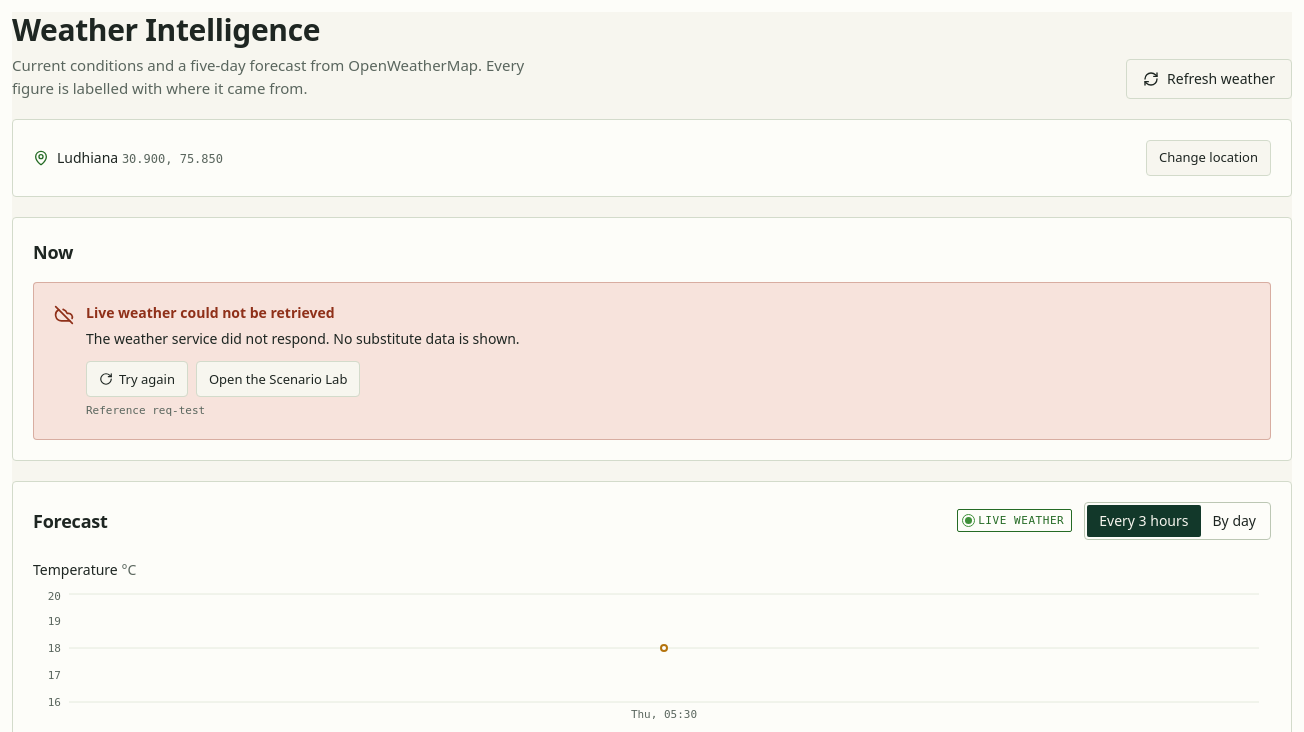
Test: WeatherPage › offers a retry after an outage, and shows the weather once it works
The width and height of the screenshot is (1304, 732).
Click the button "Try again": (137, 379) [86, 361, 188, 397]
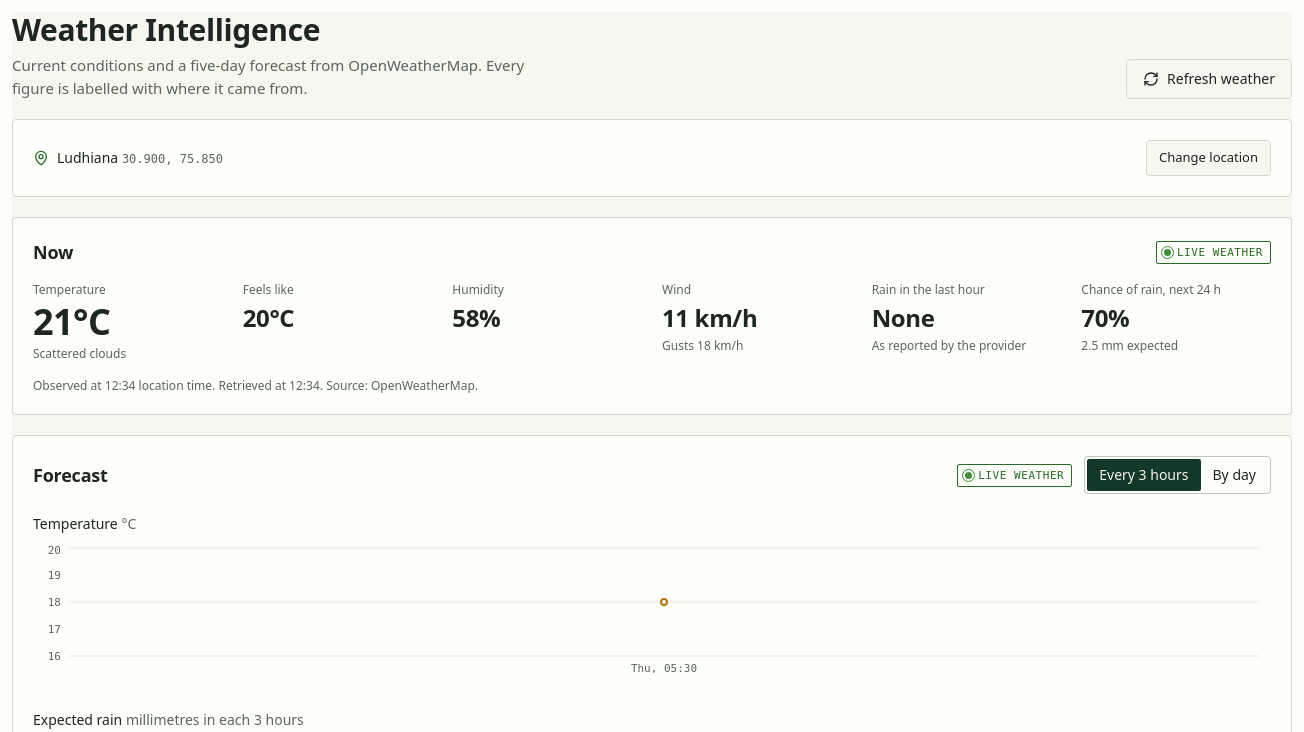
expect the text "21°C" is shown: met, box [33, 297, 110, 346]
